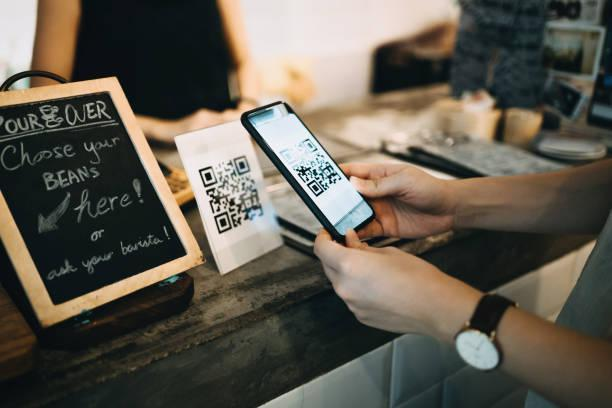qr_code: (198, 156, 264, 234), (279, 138, 342, 197)
